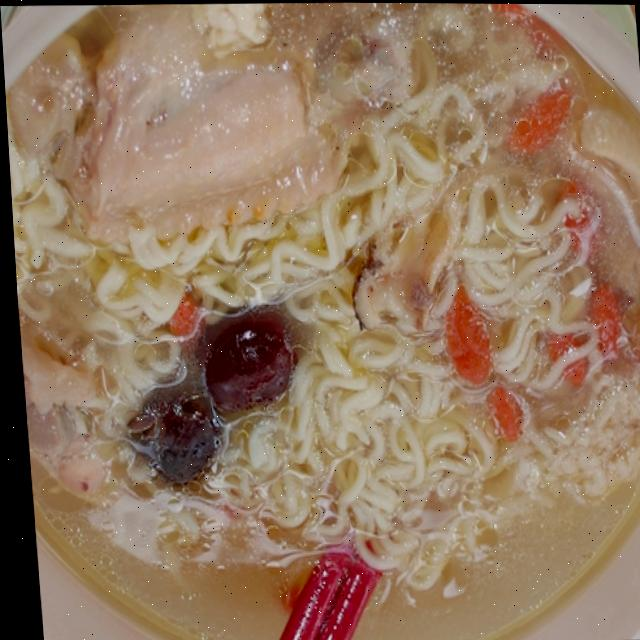面条主食: (13, 28, 640, 621)
